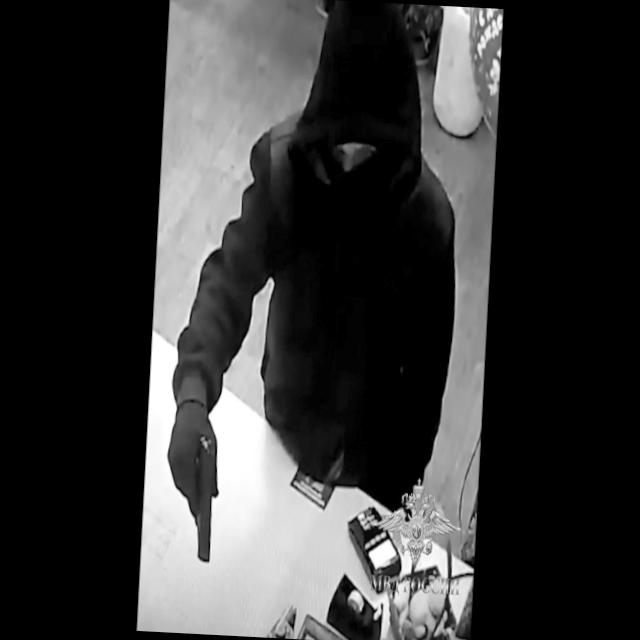gun: (162, 410, 223, 569)
person with a gun: (162, 0, 462, 575)
